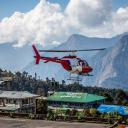helicopter: (31, 40, 108, 85)
